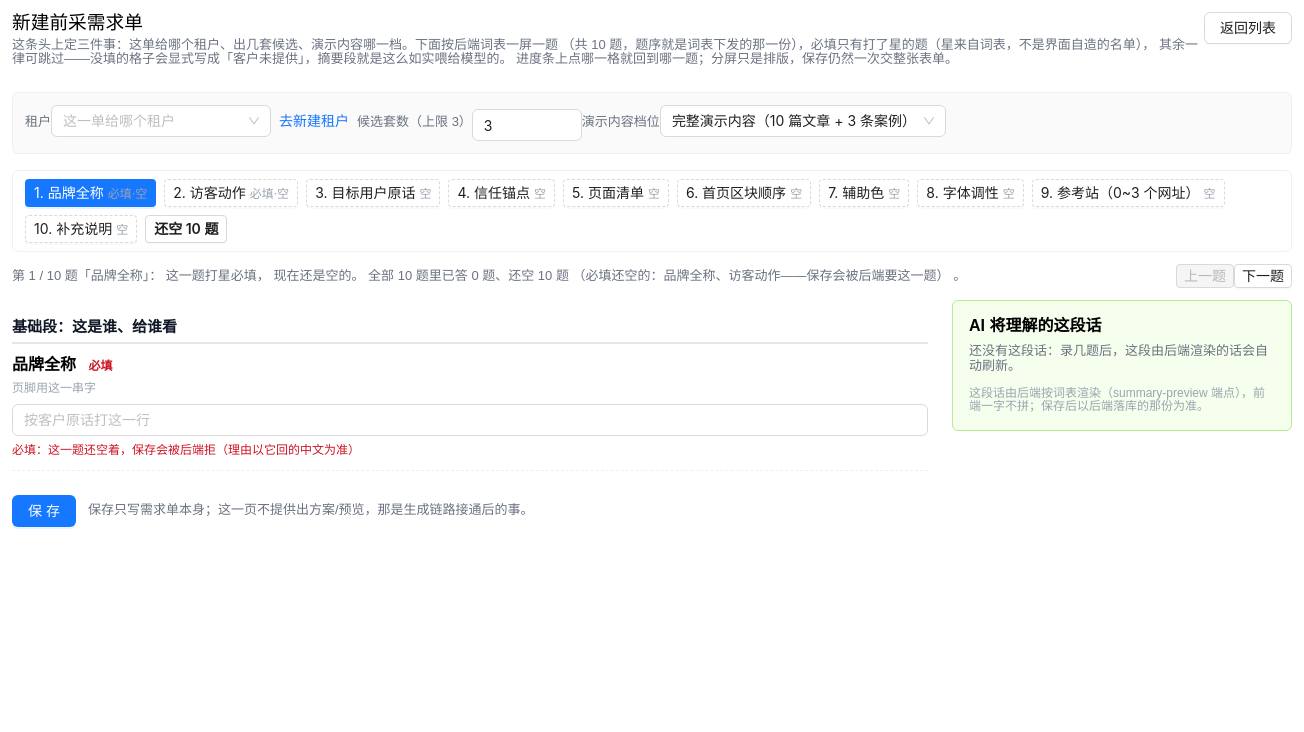
Test: 段名降级成页眉：只认词表 groups 那一份 › 页眉跟着当前这一题的段走：翻到别段的题，段名与锚点 id 一起换
This screenshot has width=1304, height=732.
Expected: the number of elements with class "brief-intake__section-head" is 1, [12, 308, 928, 344]
Expected: the text with class "brief-intake__section-head" reads "基础段：这是谁、给谁看", [12, 318, 177, 335]
Click the button with class "brief-intake__rail-chip" showing "5. 页面清单 空".
click(616, 193)  # box [563, 179, 669, 207]
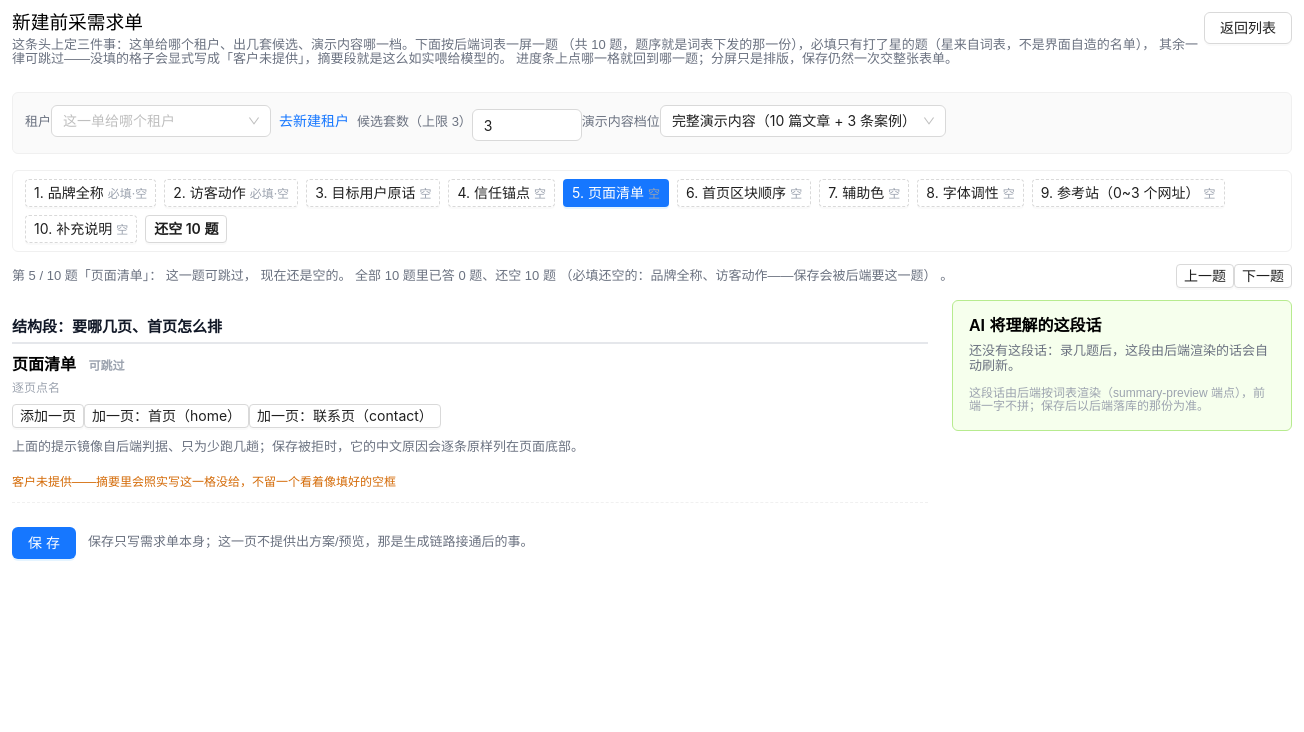
Now the number of elements with class "brief-intake__section-head" is 1, box [12, 308, 928, 344]
Now the text with class "brief-intake__section-head" reads "结构段：要哪几页、首页怎么排", box [12, 318, 222, 335]
Now the text "第 5 / 10 题「页面清单」" is shown, box [12, 268, 560, 283]
